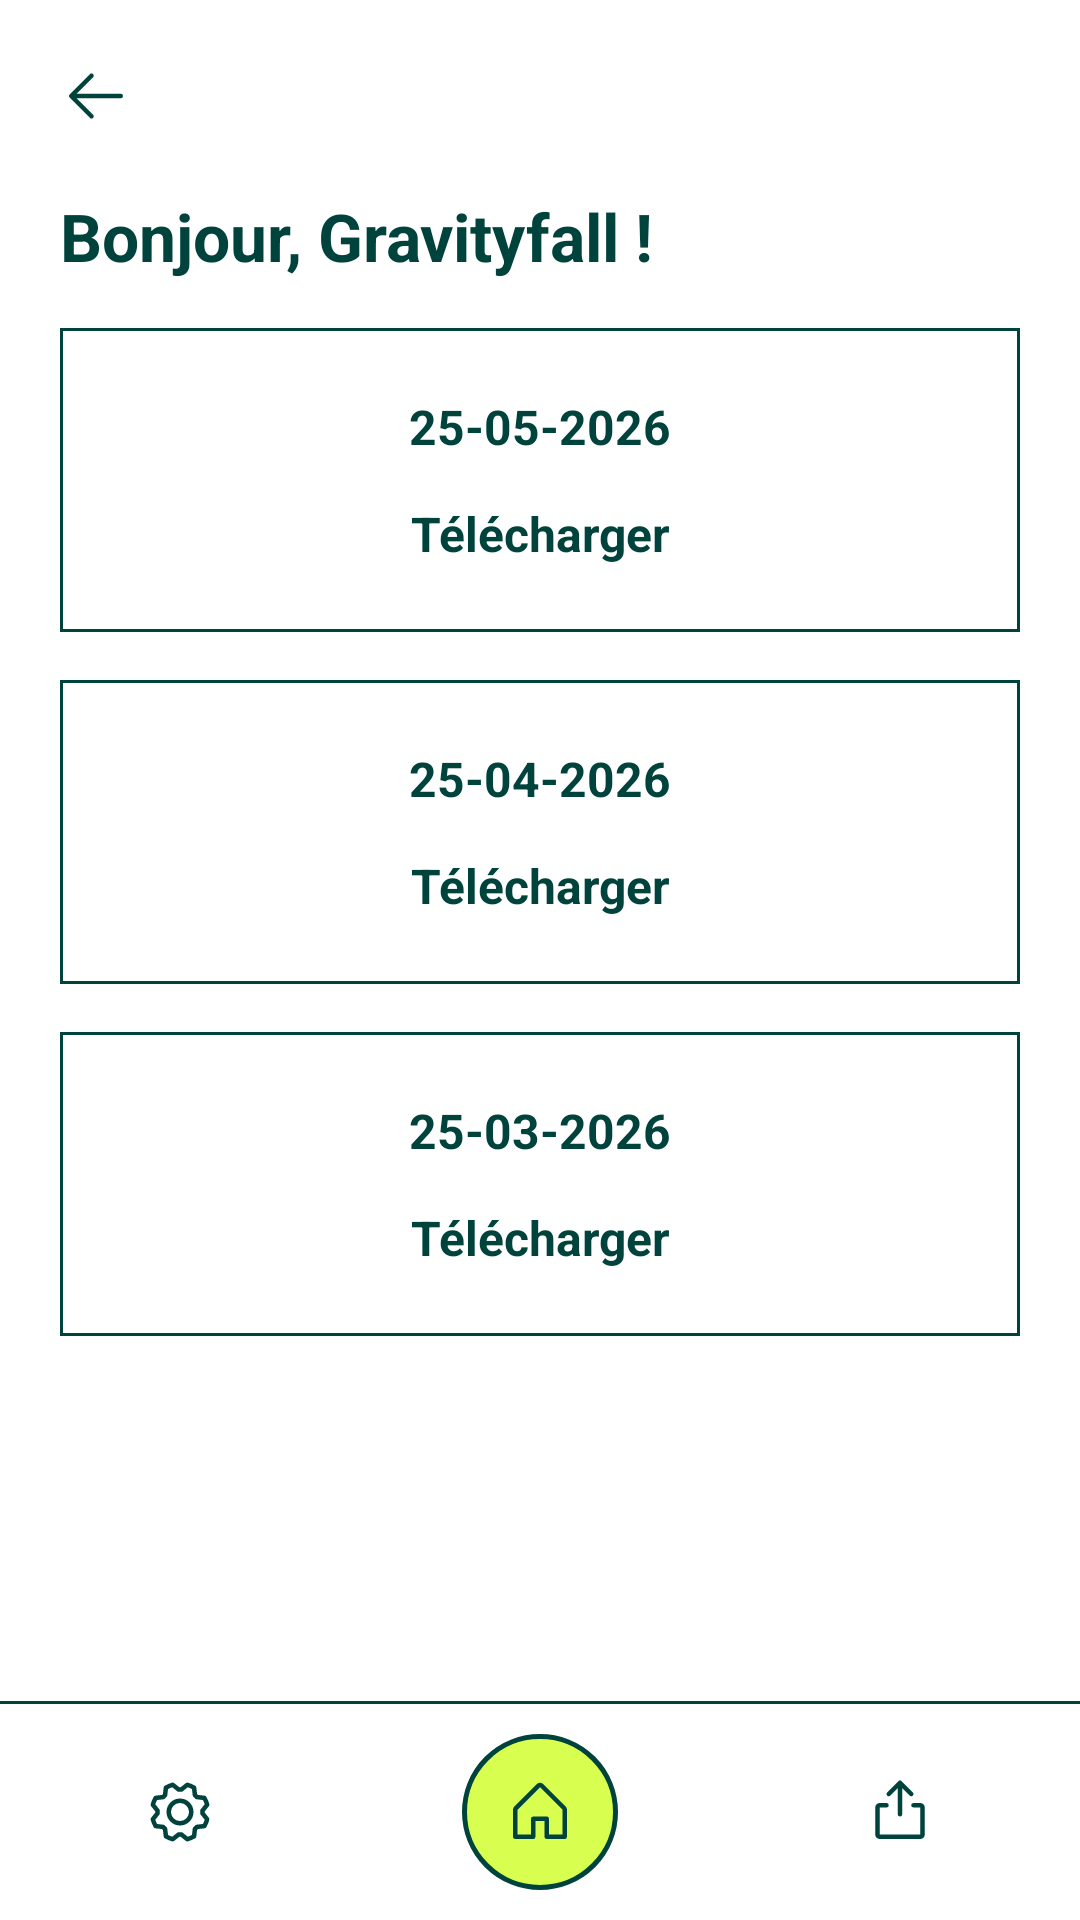

Named icons in this screenshot (1080w x 1920h) and their centers, [x,y]:
Accueil: [540,1812]
Paramètres: [180,1812]
Partager: [900,1809]
Retour: [96,96]
